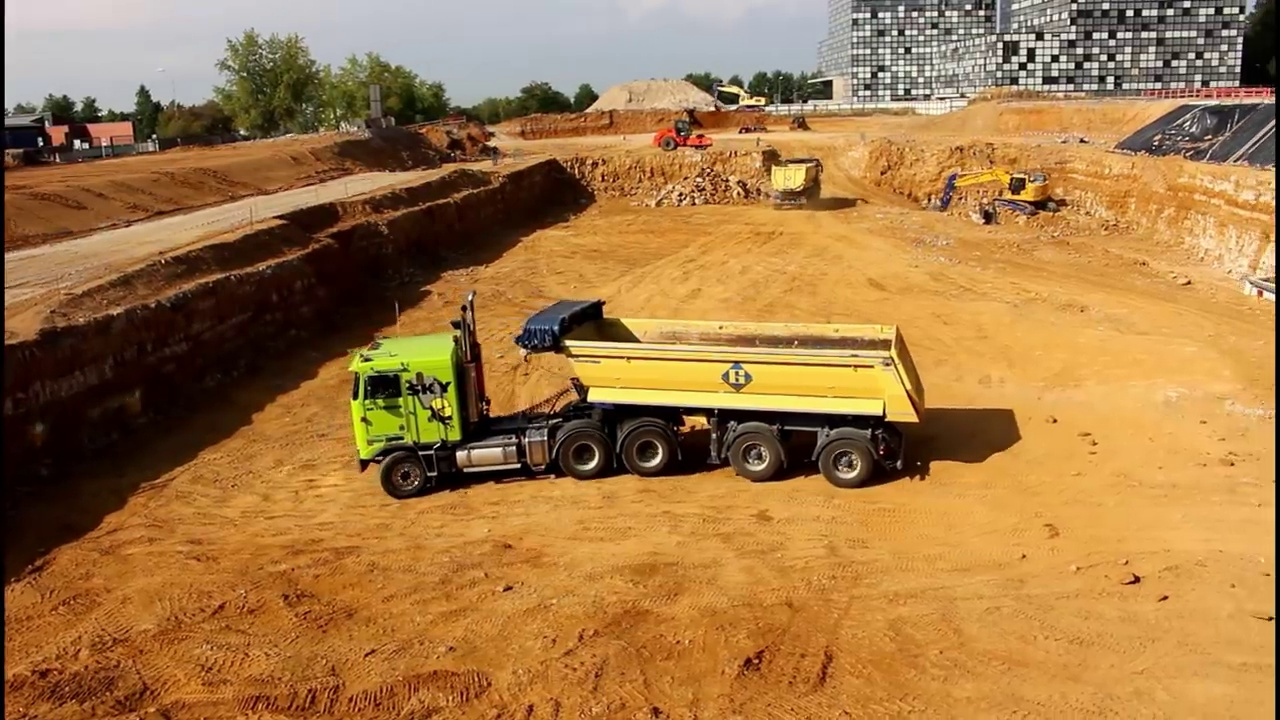compactor: (650, 114, 714, 154)
excavator: (925, 164, 1064, 228), (714, 76, 773, 113)
truck: (342, 286, 933, 505), (761, 150, 833, 216)
